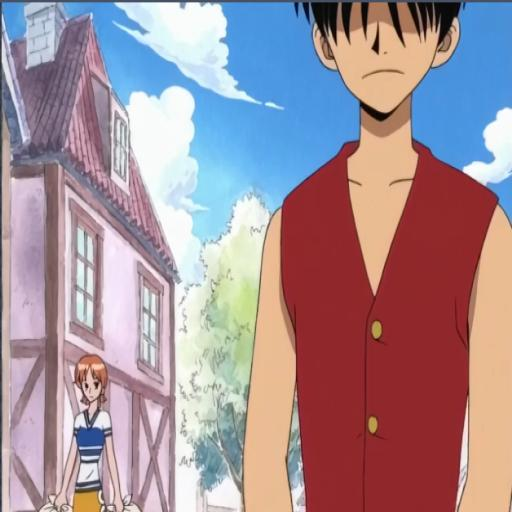Luffy: (251, 0, 512, 512)
Nami: (56, 360, 126, 512)
